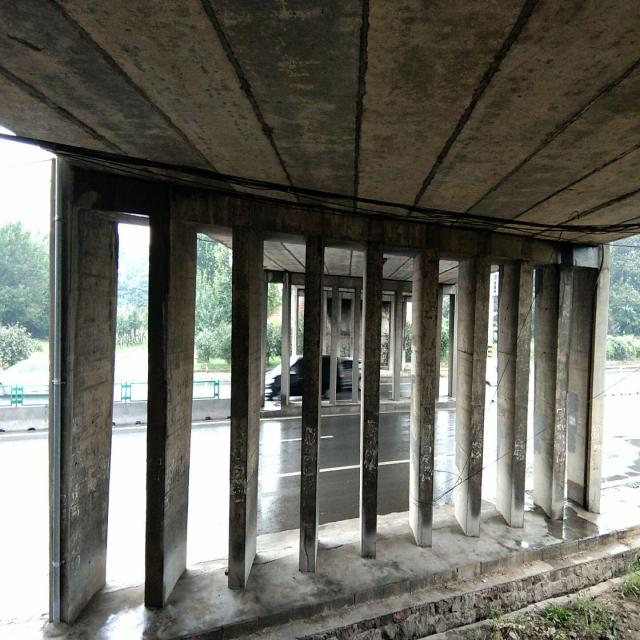diagonal crack: (3, 30, 45, 58)
